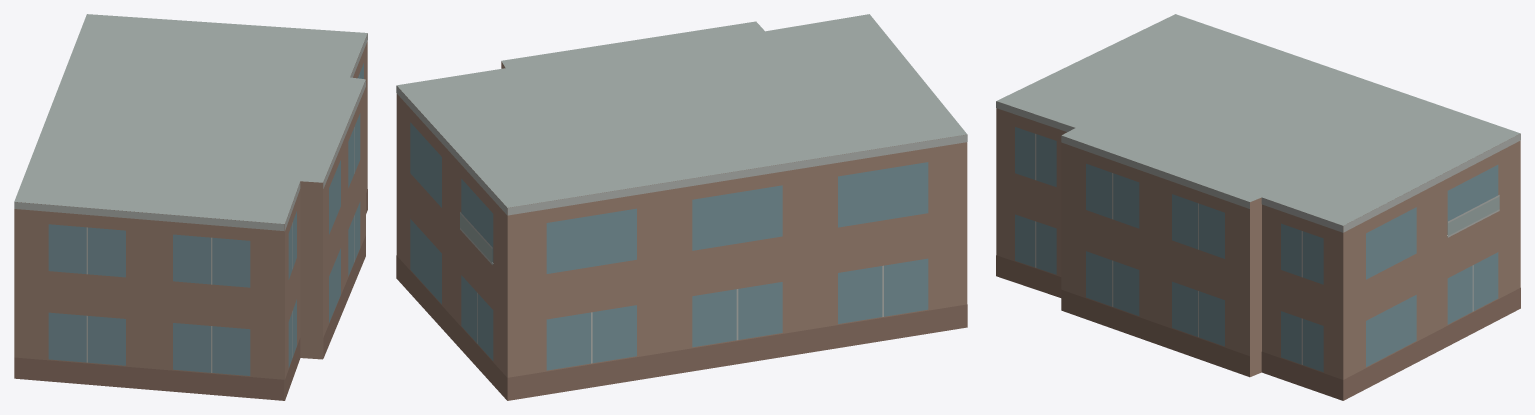
The model's file is survey-upis-32778888.glb.
3 views of the same model, side by side, from view 1: azimuth 30°, elevation 25°; view 2: azimuth 150°, elevation 25°; view 3: azimuth 270°, elevation 25° (orthographic). The views are drawn at different scales.
Visible parts, largest first — view 1: survey-upis-32778888.tmp; view 2: survey-upis-32778888.tmp; view 3: survey-upis-32778888.tmp.
Part boxes in pixels (bbox=[...]): survey-upis-32778888.tmp: bbox=[14, 14, 367, 400]; survey-upis-32778888.tmp: bbox=[396, 14, 967, 400]; survey-upis-32778888.tmp: bbox=[996, 14, 1520, 400].
Size of the model in its own units: 15.84 by 6.1 by 16.57.
